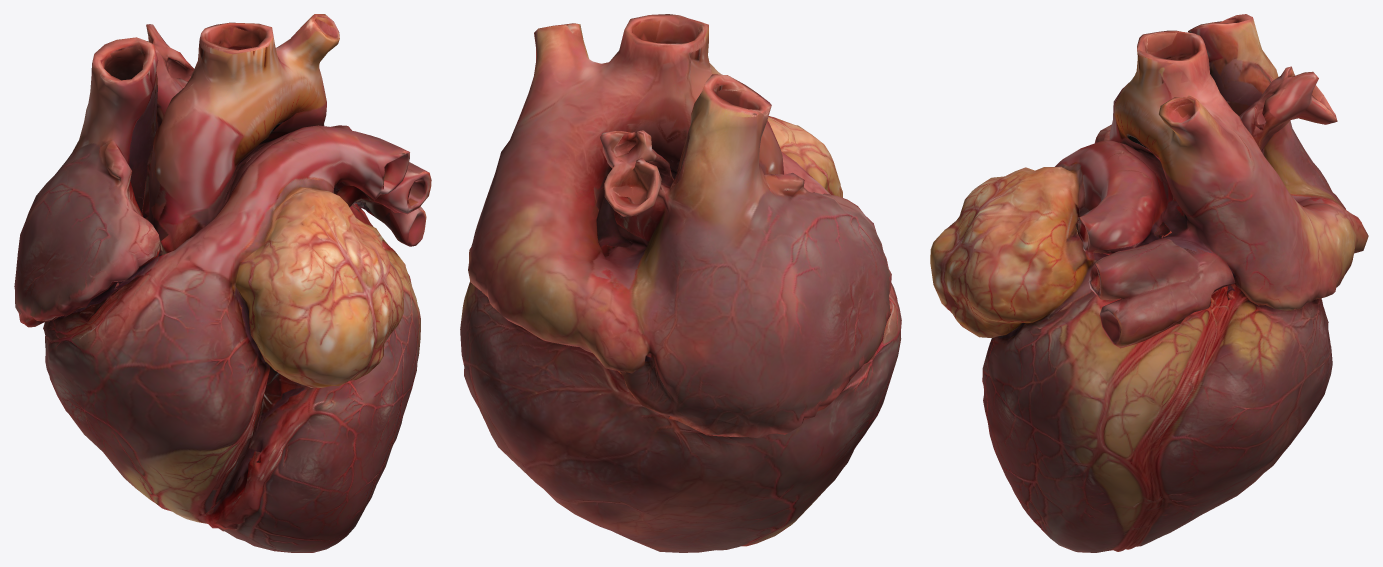
File: heart3.glb
The picture shows the model from 3 angles, left to right: view 1: azimuth 30°, elevation 25°; view 2: azimuth 150°, elevation 25°; view 3: azimuth 270°, elevation 25°; orthographic projection. The views are drawn at different scales.
Bounding box in the file's own units: 1.55 × 2 × 1.63.
1 material, 1 textured.
